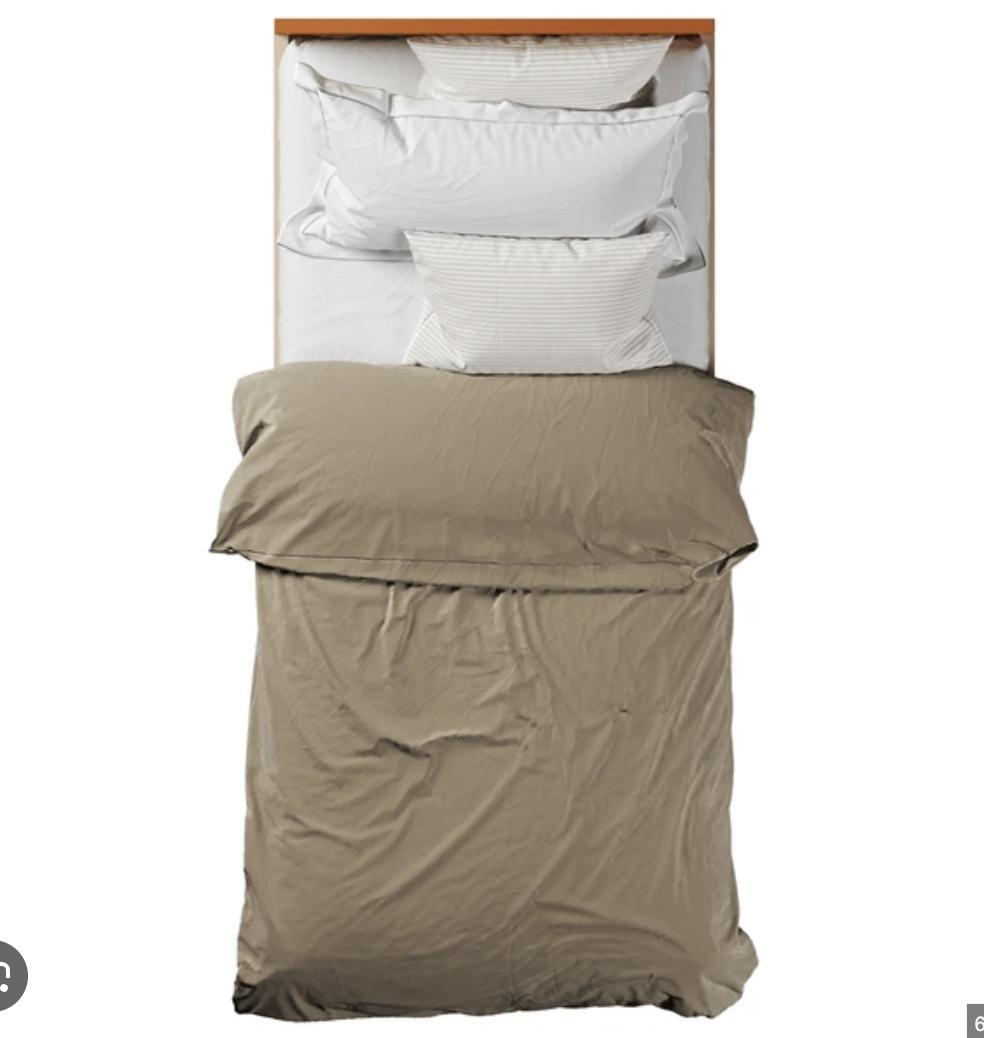Bed-Mattress: (248, 7, 755, 1024)
